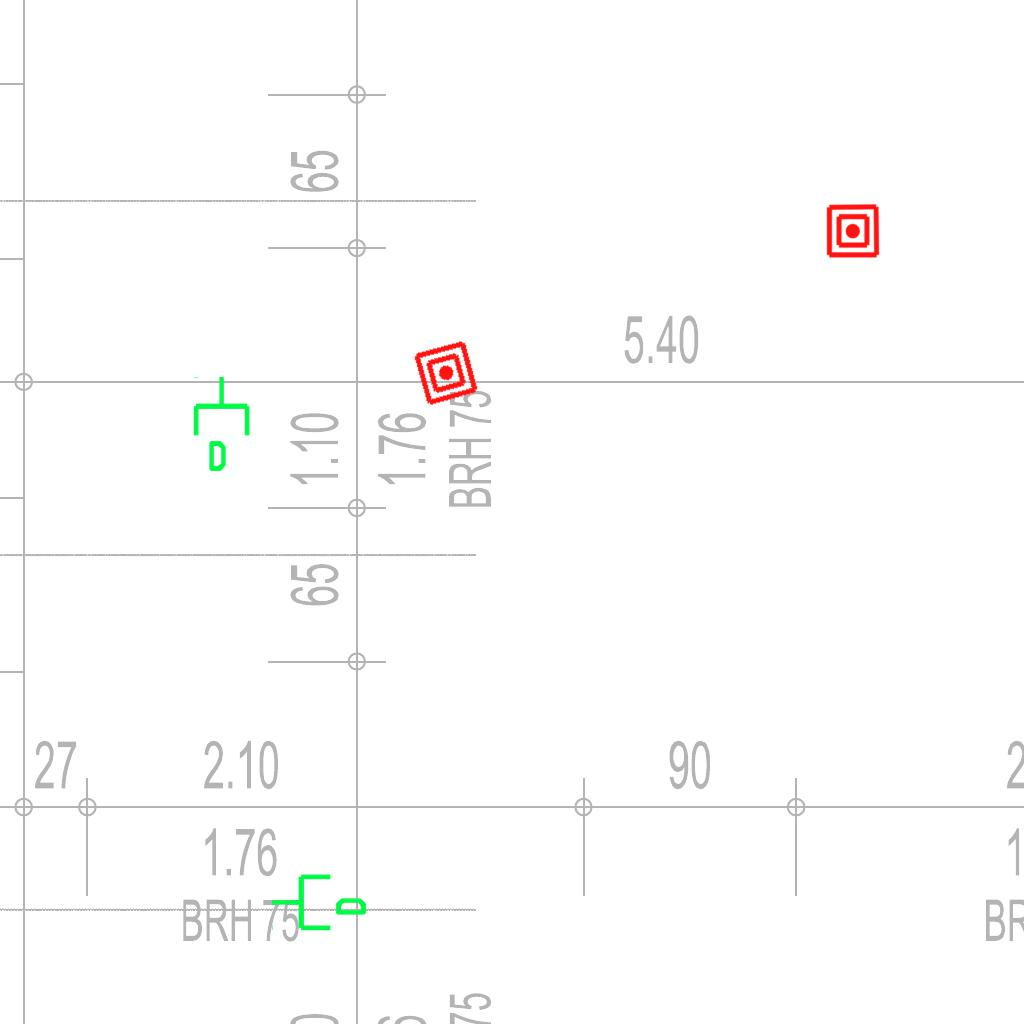Datenanschluss_einfach: (269, 866, 369, 935), (189, 374, 258, 474)
NAM-Nichtautomatischer_Melder: (411, 338, 481, 408), (825, 203, 881, 259)
